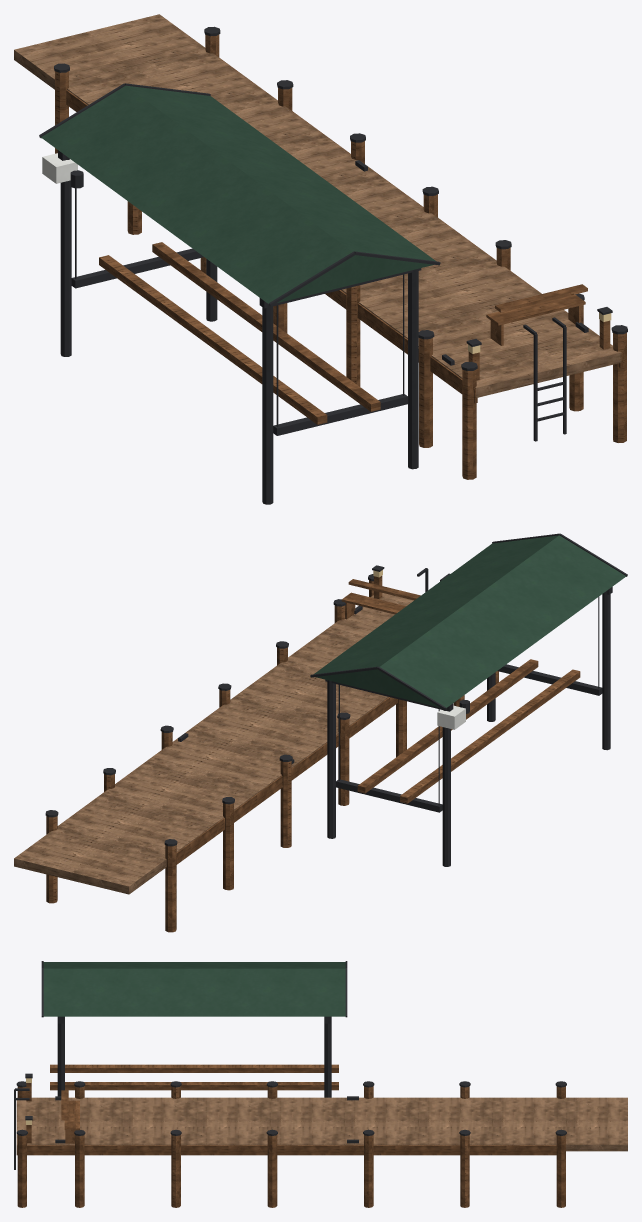
The model's file is se_dock_lift_canopy.fbx.
3 renders of one model, top to bottom at view 1: azimuth 30°, elevation 25°; view 2: azimuth 150°, elevation 25°; view 3: azimuth 270°, elevation 25°, orthographic. The views are drawn at different scales.
Visible parts, largest first — view 1: se_dock_lift_canopy_LOD0; view 2: se_dock_lift_canopy_LOD0; view 3: se_dock_lift_canopy_LOD0.
Part boxes in pixels (box(x1,y1,x2,y2)): se_dock_lift_canopy_LOD0: box(14, 14, 627, 504); se_dock_lift_canopy_LOD0: box(14, 533, 627, 932); se_dock_lift_canopy_LOD0: box(14, 961, 627, 1207).
Size of what is drawn, in the model's own units: 7.15 by 4.79 by 16.57.
Materials: 1 (1 with a texture image).
